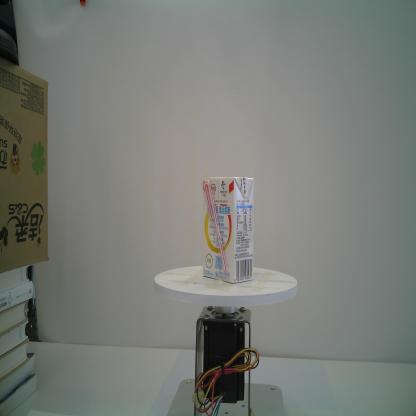Milk: (202, 176, 255, 285)
